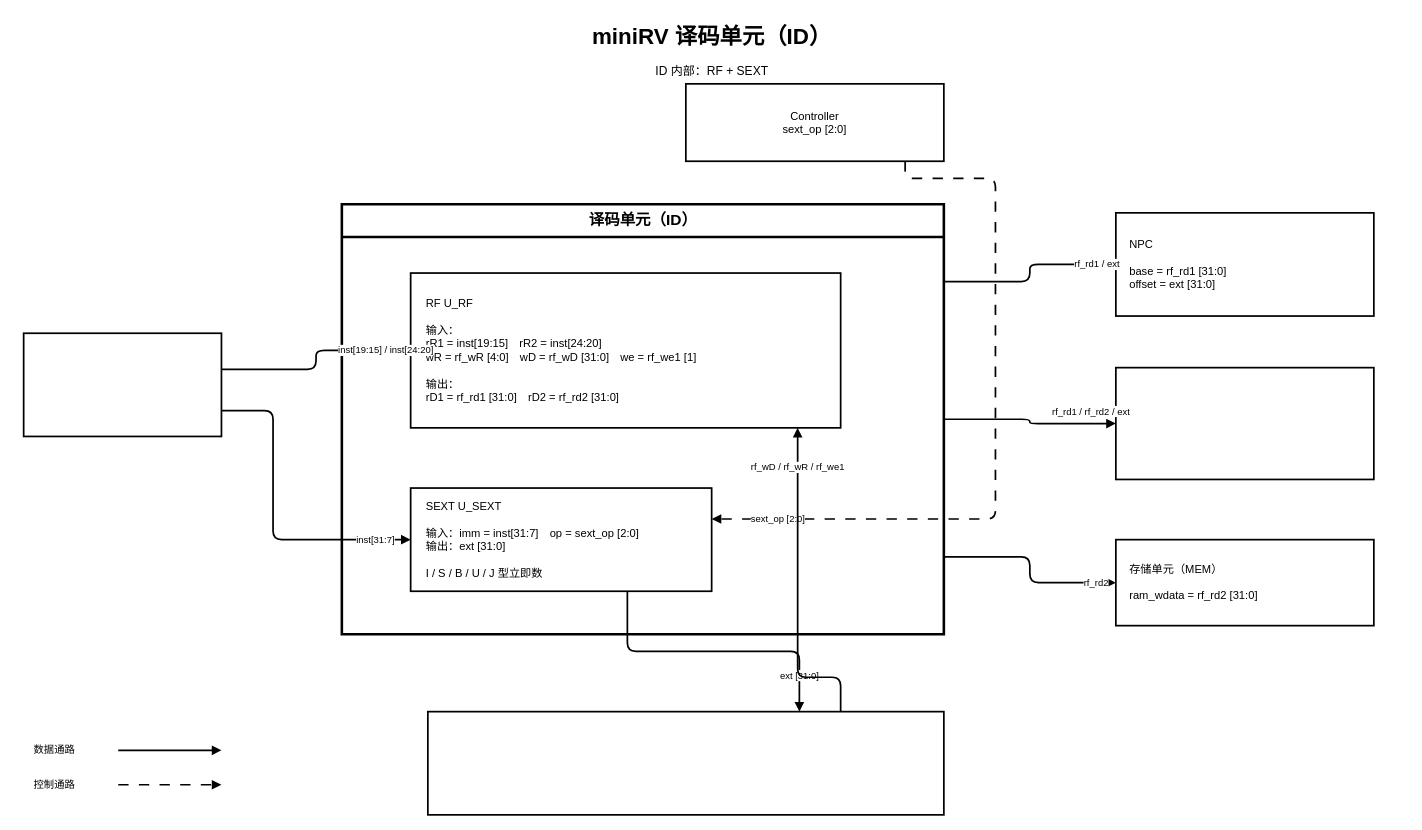
The diagram is 1422 pixels wide and 830 high, and some of its shapes have lost their labels. Here are the shapes that lost their labels. From the top down, the box of each, then its label:
(22, 332, 222, 437): 取指单元（IF） inst [31:0]
(1115, 366, 1374, 480): 执行单元（EX） rf_rd1 [31:0] rf_rd2 [31:0] ext [31:0]
(427, 710, 944, 815): 写回单元（WB） → RF：rf_wD [31:0] / rf_wR [4:0] / rf_we1 [1] ← SEXT：ext [31:0]
